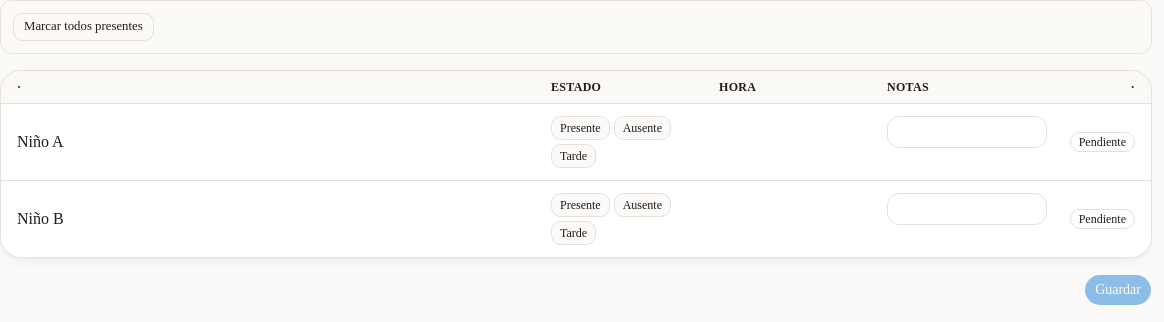
Scenario: <PaseDeListaTable /> — componente genérico de pase de lista › columna visibleWhen oculta la celda si no se cumple la condición
Al marcar ausente (no presente/tarde), tampoco aparece.
Click the radio button with test id "pase-cell-n1-estado-ausente". click: x=642, y=128
box: left=614, top=116, right=671, bottom=140
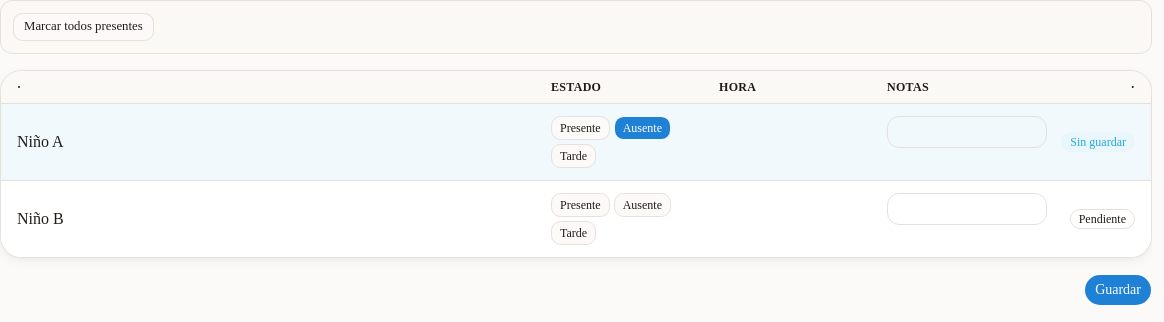
Al marcar presente, sí aparece.
Click the radio button with test id "pase-cell-n1-estado-presente". click: x=580, y=128
box: left=551, top=116, right=610, bottom=140
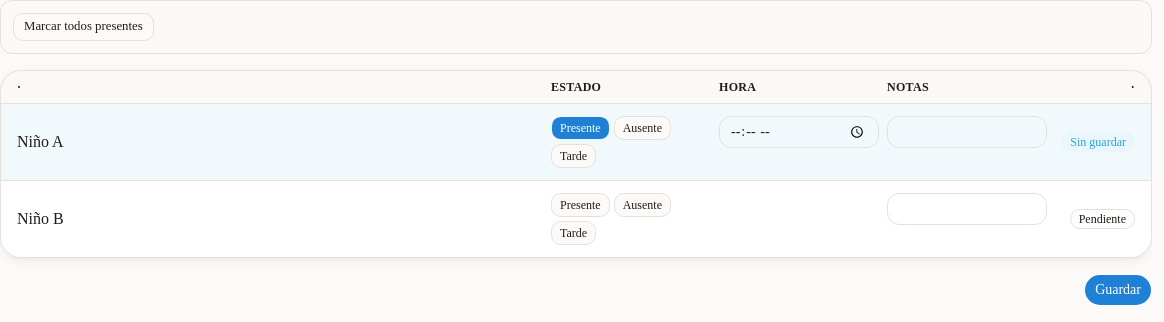
Check: the time field with test id "pase-cell-n1-hora_llegada" is shown, box left=719, top=116, right=879, bottom=148
